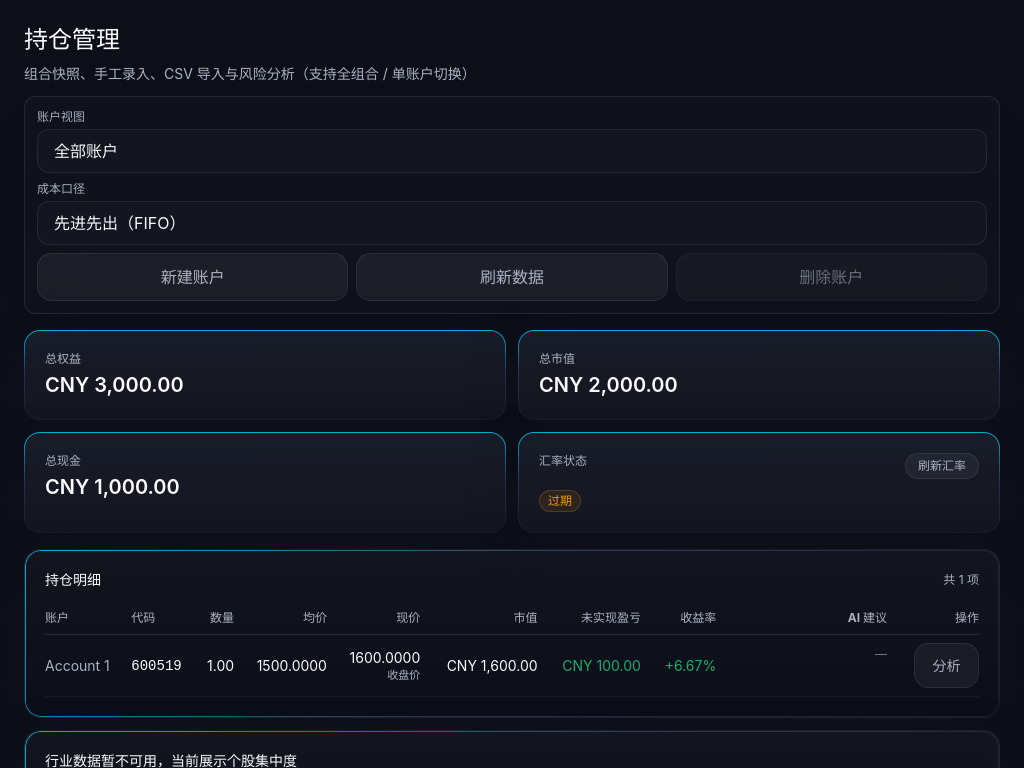
PortfolioPage FX refresh › drops late holding-signal responses after switching account scope
Expected: the text "600519" is shown, [131,635,201,696]
Select "Alt (#2)" in the 1st dropdown: x=512, y=151 [37,129,987,173]
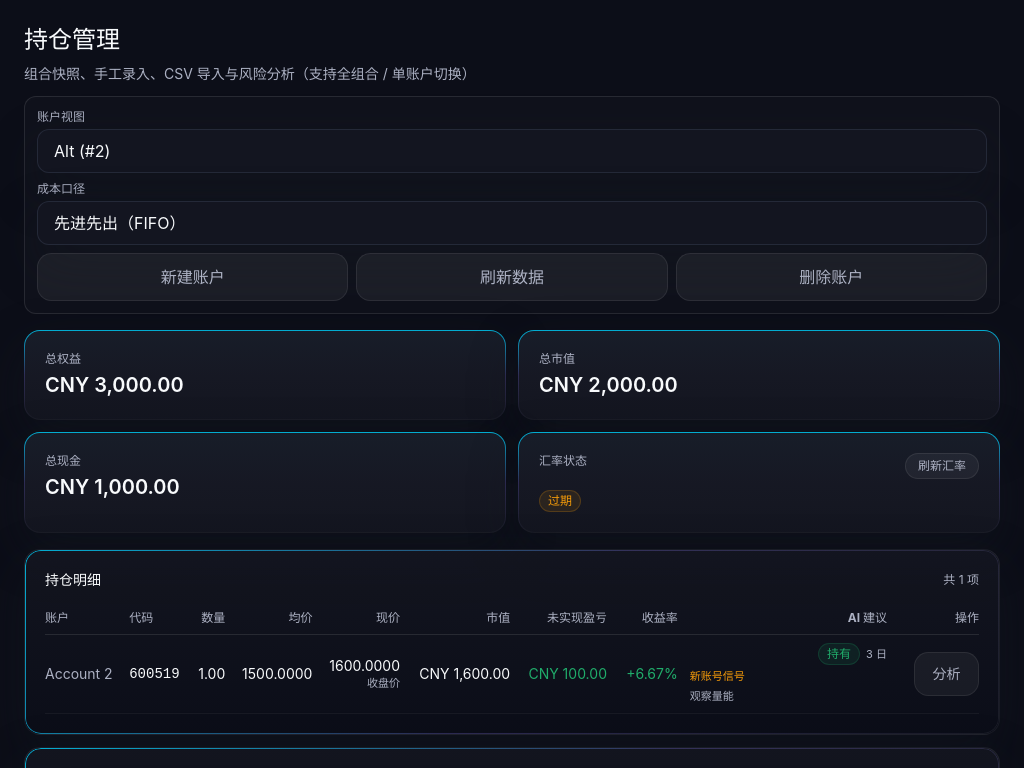
Now the text "新账号信号" is shown, box [690,669,745,683]
